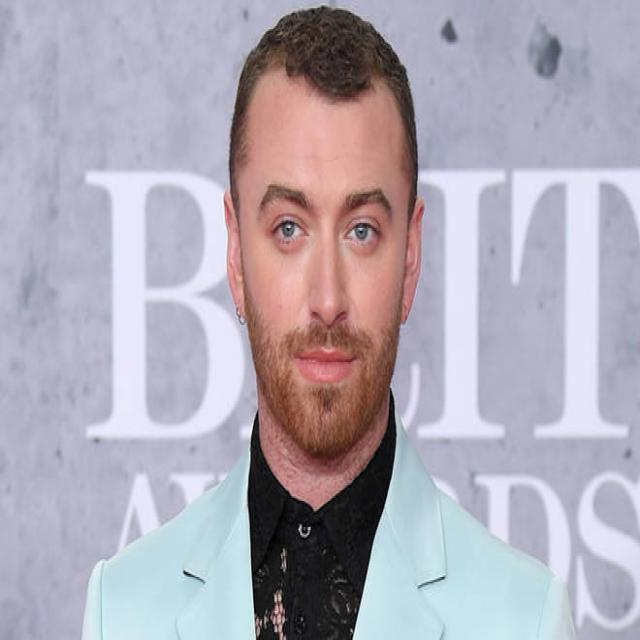human: (81, 0, 580, 640)
